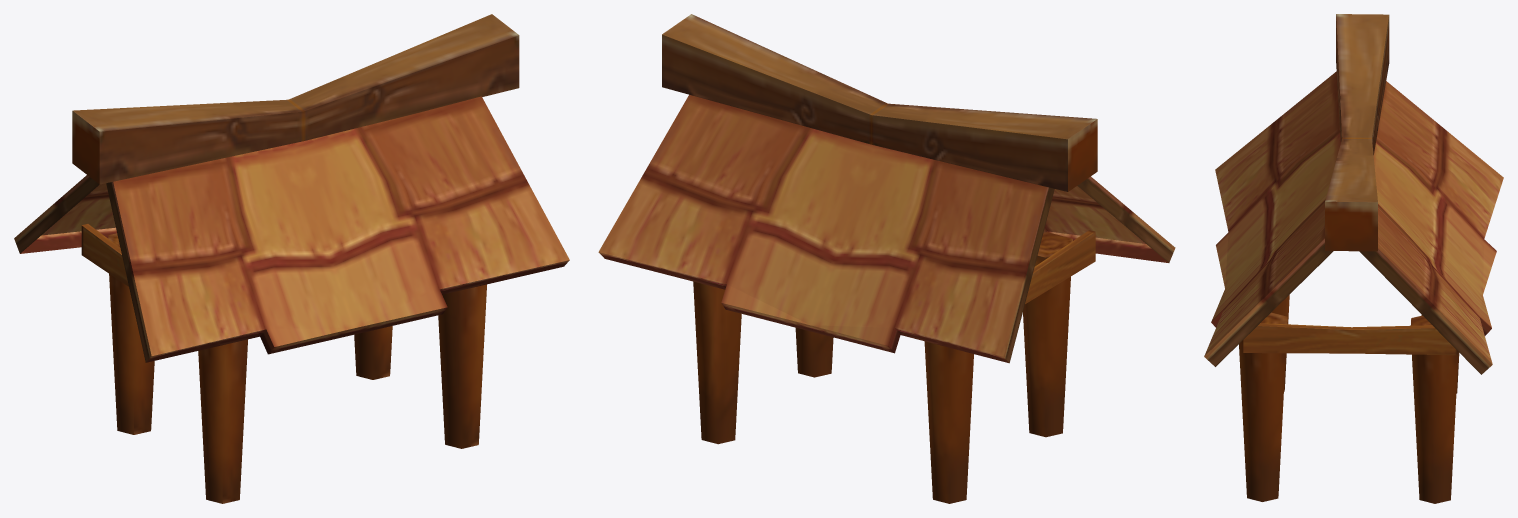
File: fangzi_001.FBX
3 renders of one model, left to right at view 1: azimuth 30°, elevation 25°; view 2: azimuth 150°, elevation 25°; view 3: azimuth 270°, elevation 25°, orthographic. The views are drawn at different scales.
Visible parts, largest first — view 1: fangzi_001; view 2: fangzi_001; view 3: fangzi_001.
Part boxes in pixels (box(x1,y1,x2,y2)): fangzi_001: box(14, 14, 569, 503); fangzi_001: box(598, 14, 1175, 503); fangzi_001: box(1204, 14, 1503, 503).
Size of the model in its own units: 217 by 173 by 141.
